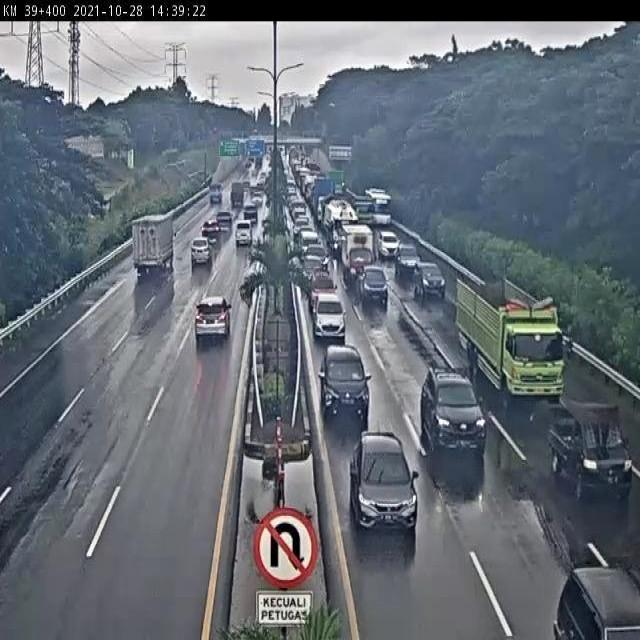car: (350, 432, 415, 528), (420, 370, 483, 450), (320, 344, 368, 419), (194, 299, 231, 337), (315, 291, 344, 336), (309, 273, 339, 308), (411, 263, 443, 293), (360, 264, 388, 296), (394, 242, 419, 274), (189, 236, 213, 263), (202, 218, 224, 246), (304, 257, 325, 284), (233, 221, 254, 247), (305, 244, 328, 265)
mid truck: (457, 277, 564, 399), (132, 212, 172, 275)
small truck: (549, 402, 632, 498), (340, 222, 374, 278)
